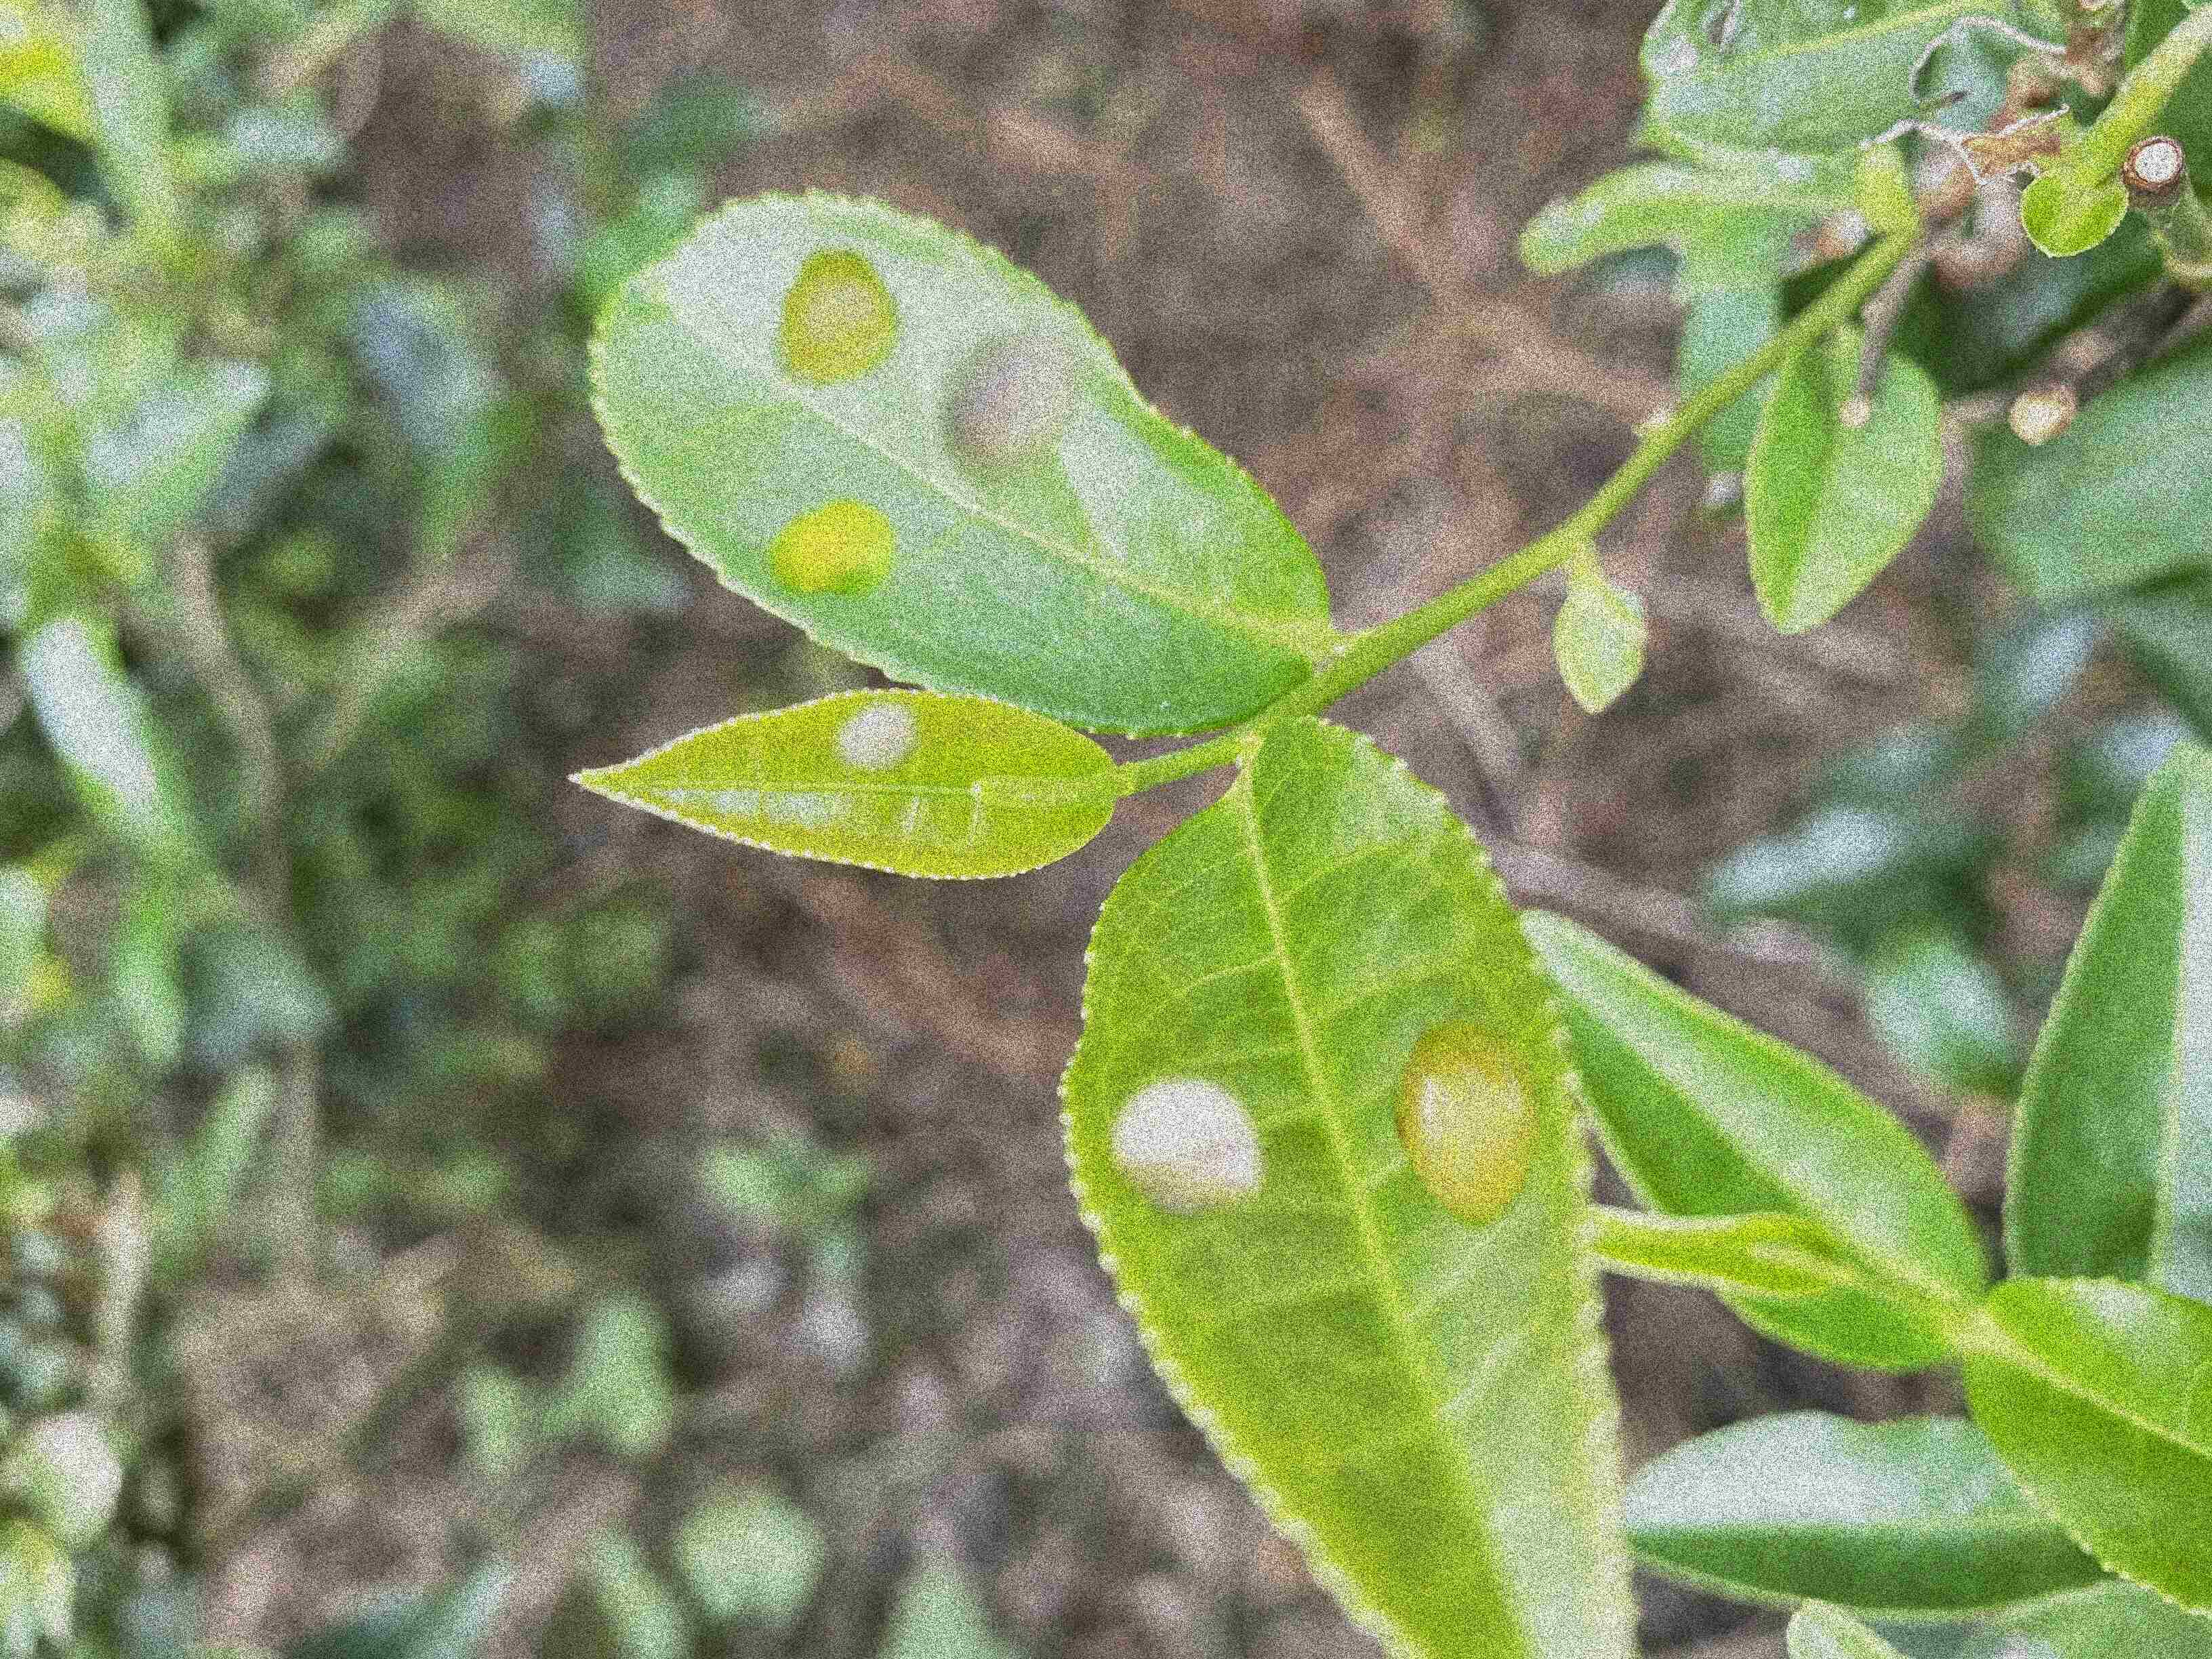chabing_high: (1054, 709, 1634, 1657), (587, 190, 1332, 739)
chabing_low: (566, 687, 1115, 887)
